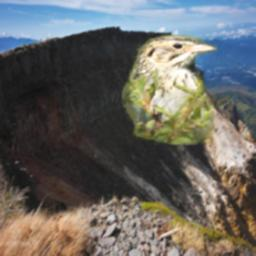Sparrow: (122, 36, 217, 146)
